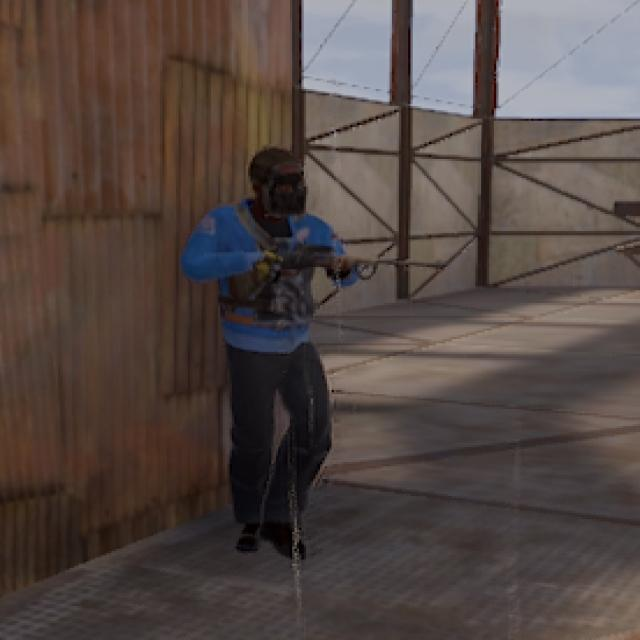Player: (186, 151, 346, 556)
